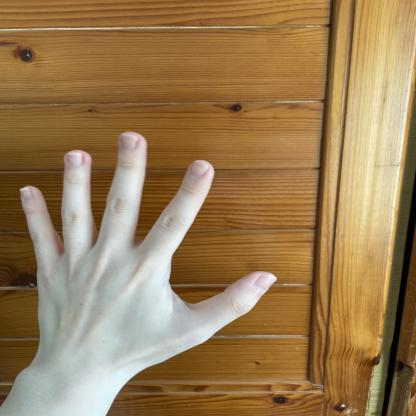bare_hand: (0, 117, 288, 399)
